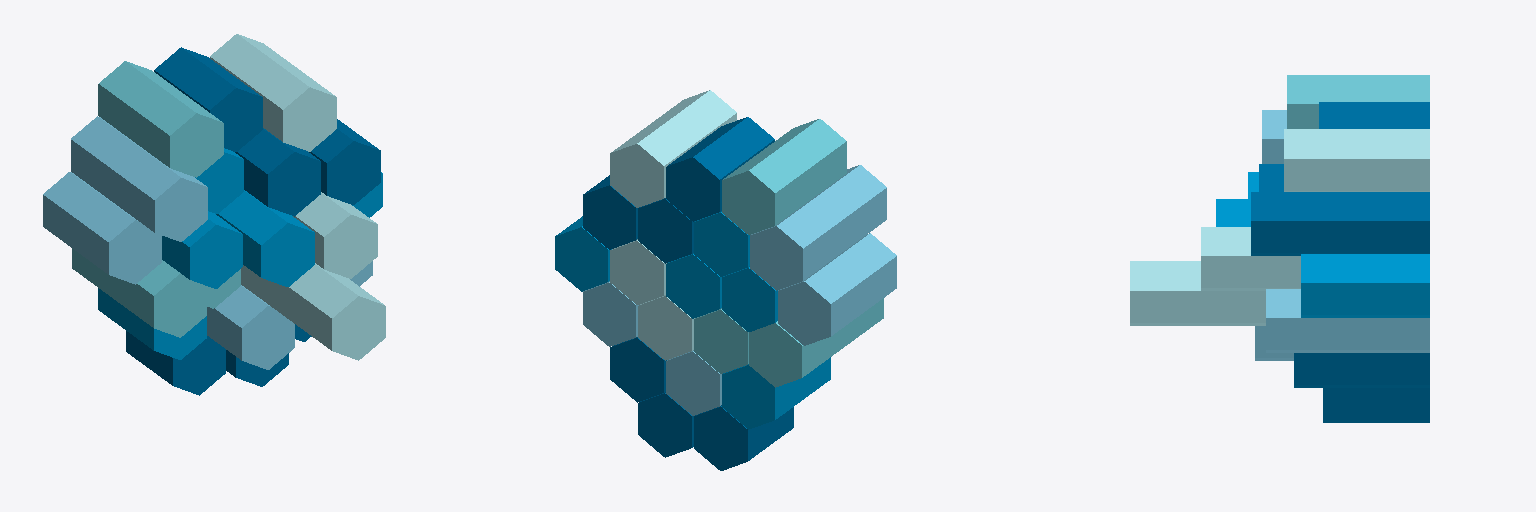
The model's file is tinker.obj.
3 renders of one model, left to right at view 1: azimuth 30°, elevation 25°; view 2: azimuth 150°, elevation 25°; view 3: azimuth 270°, elevation 25°, orthographic.
Parts seen in each view (by area): view 1: obj_0; view 2: obj_0; view 3: obj_0.
Part boxes in pixels (x1,y1,x2,y2): obj_0: (43, 34, 385, 395); obj_0: (555, 90, 896, 470); obj_0: (1130, 75, 1429, 422).
Bounding box in the file's own units: 89.32 × 95 × 84.